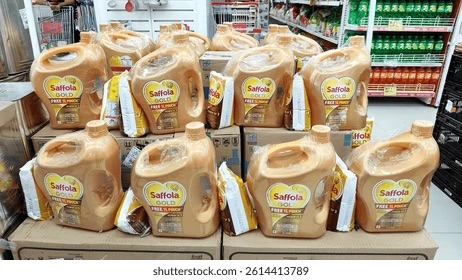parachute: (9, 1, 461, 253)
saffola: (117, 29, 226, 145)
